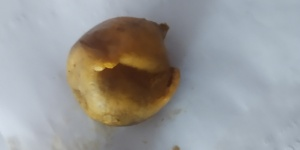BAD: (66, 15, 181, 122)
